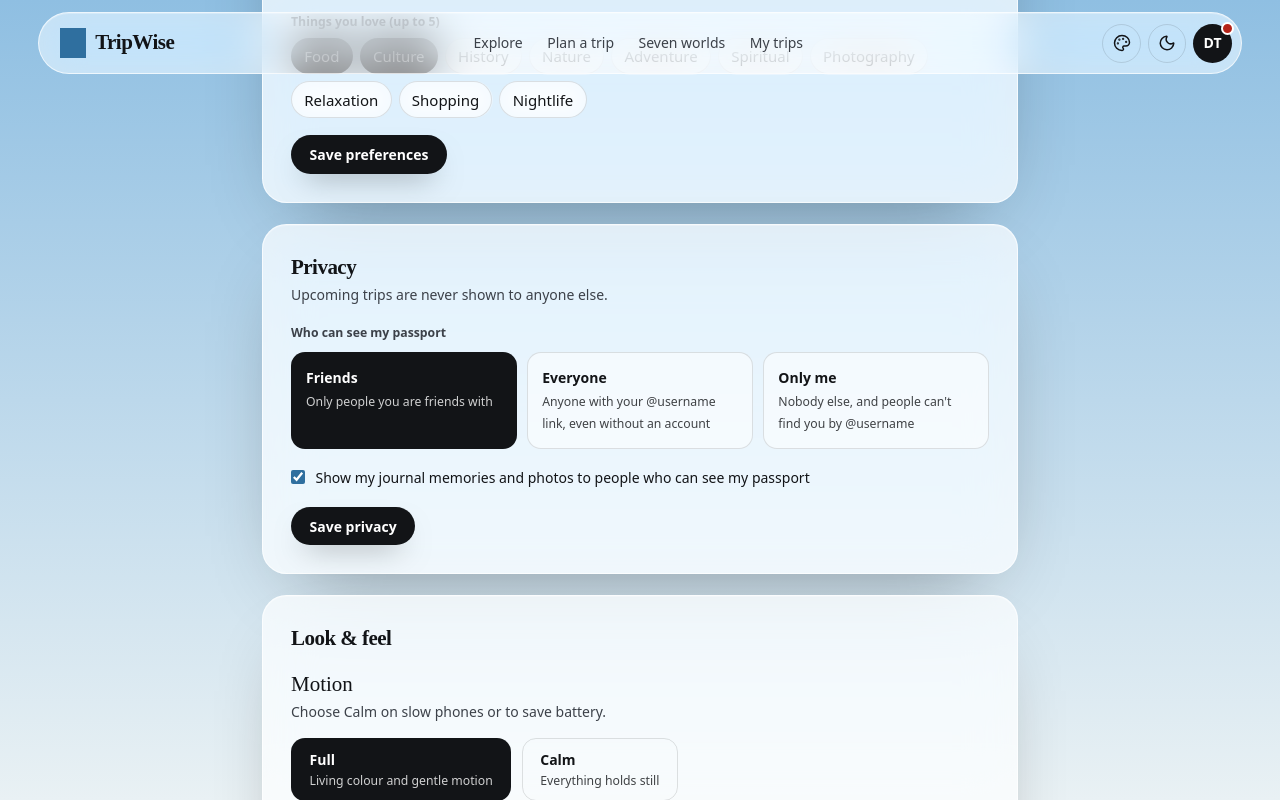
AccountPage › saves who can see the passport
(page scrolled)
Click the radio button labelled "Only me Nobody else, and people can't find you by @username".
click(876, 401)  # box [763,352,989,449]
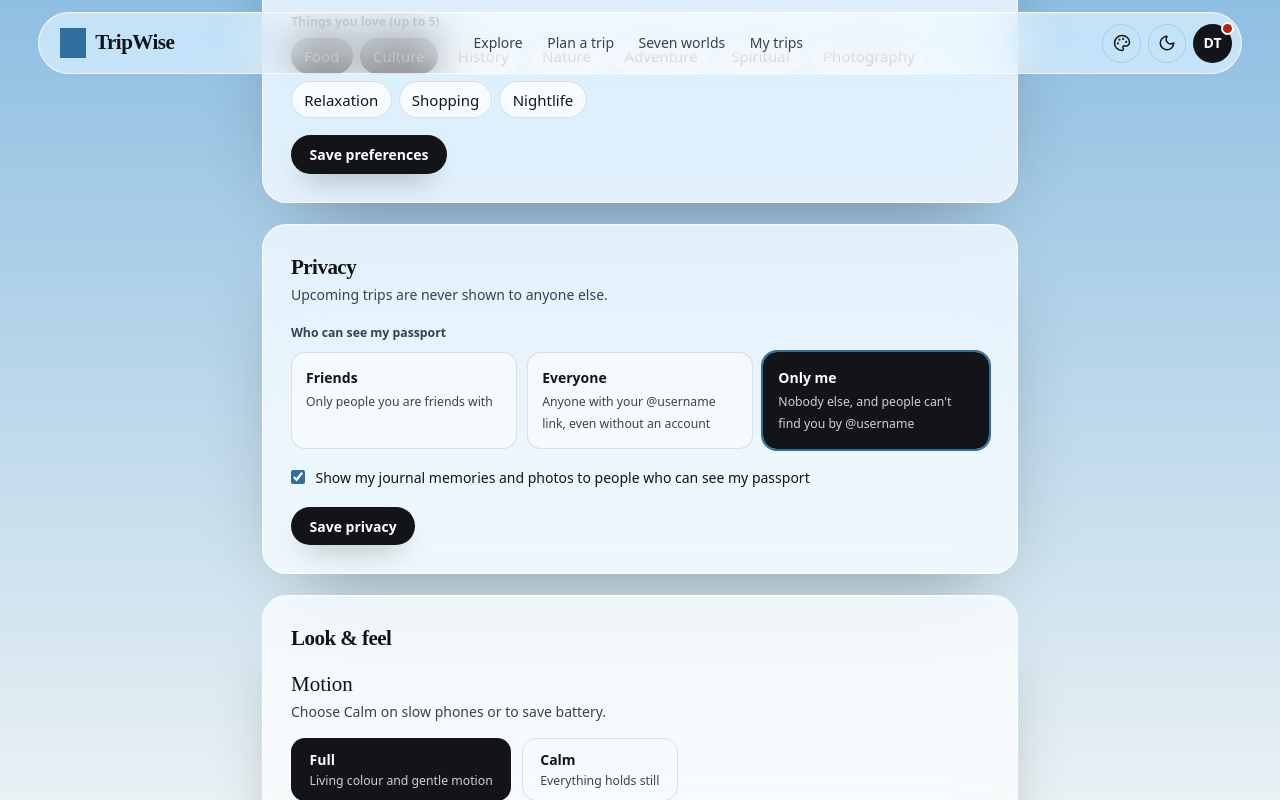
Click the button "Save privacy".
click(353, 526)  # box [291,507,415,545]
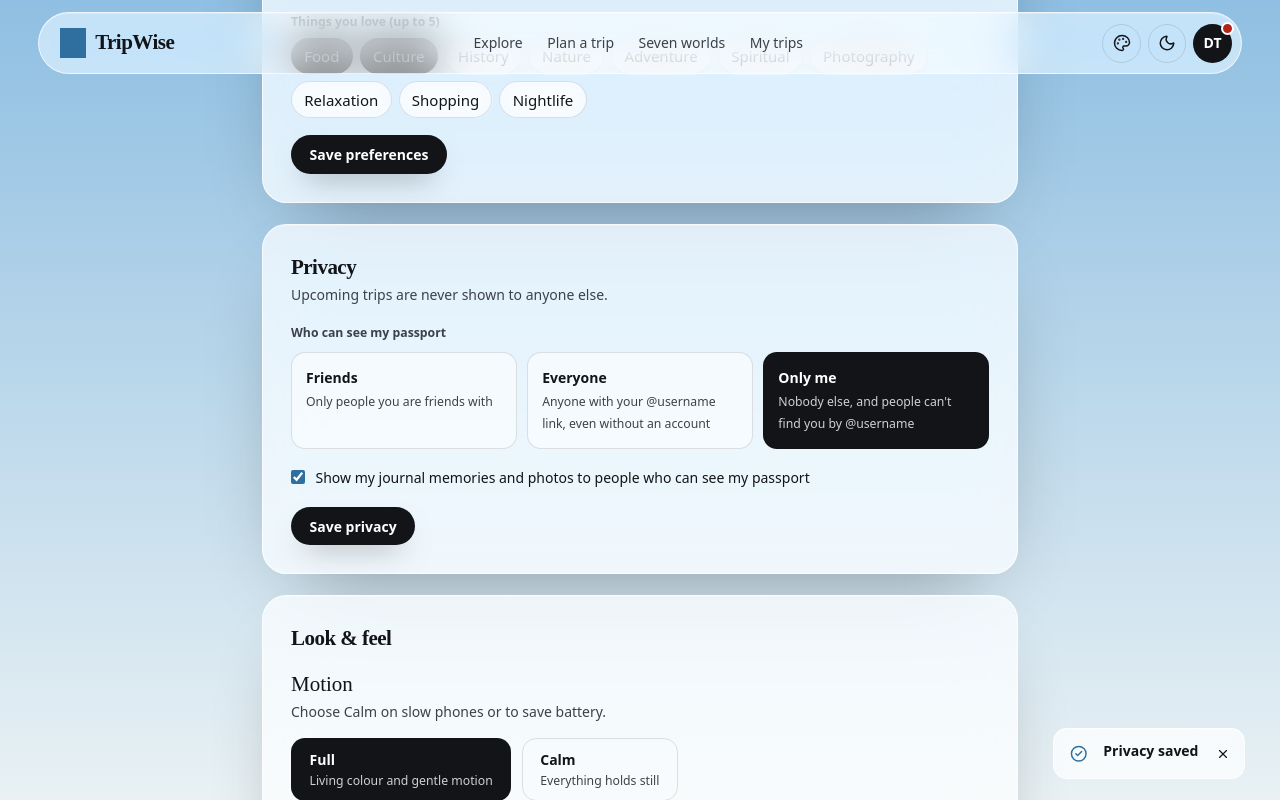
expect the text "Privacy saved" is shown: met, box [1103,740,1198,762]
